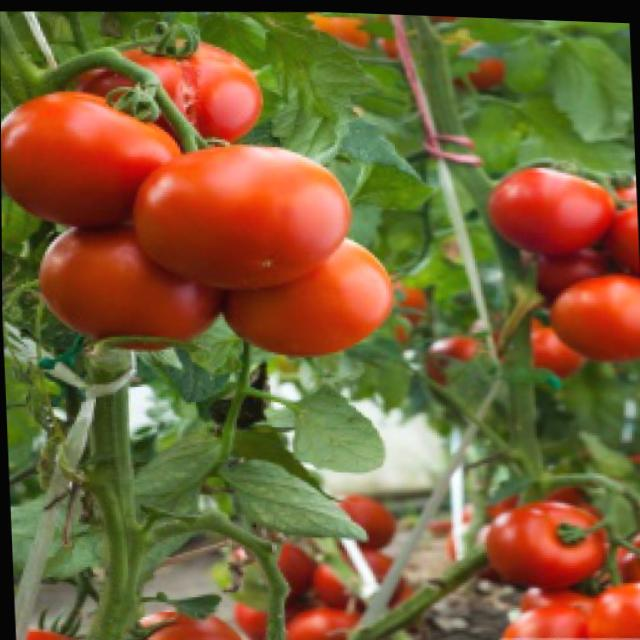tomato: (132, 138, 348, 297), (30, 33, 265, 158), (0, 84, 189, 233), (38, 214, 227, 349), (213, 228, 401, 363), (478, 479, 614, 590), (487, 156, 618, 262), (547, 267, 640, 361)
